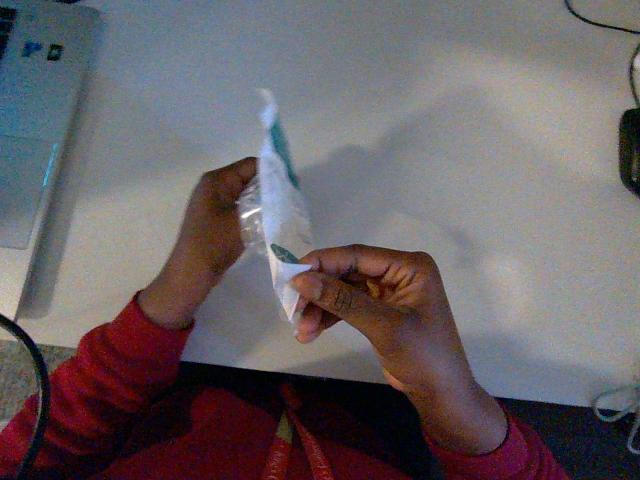gallipot: (238, 90, 312, 324)
